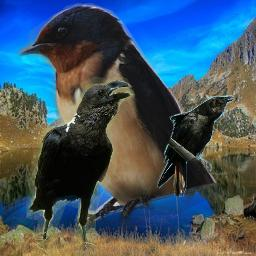Crow: (26, 76, 135, 256), (157, 95, 234, 198)
Swallow: (18, 3, 218, 233)
